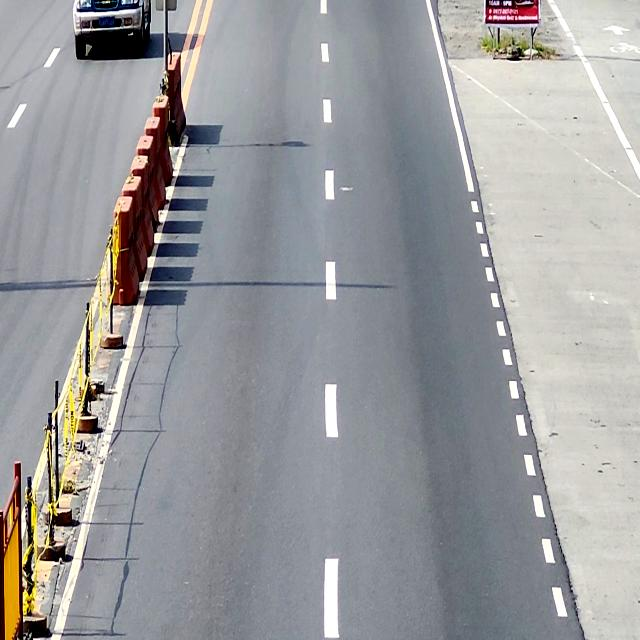Car: (72, 0, 152, 58)
License-Plate: (98, 13, 119, 32)
